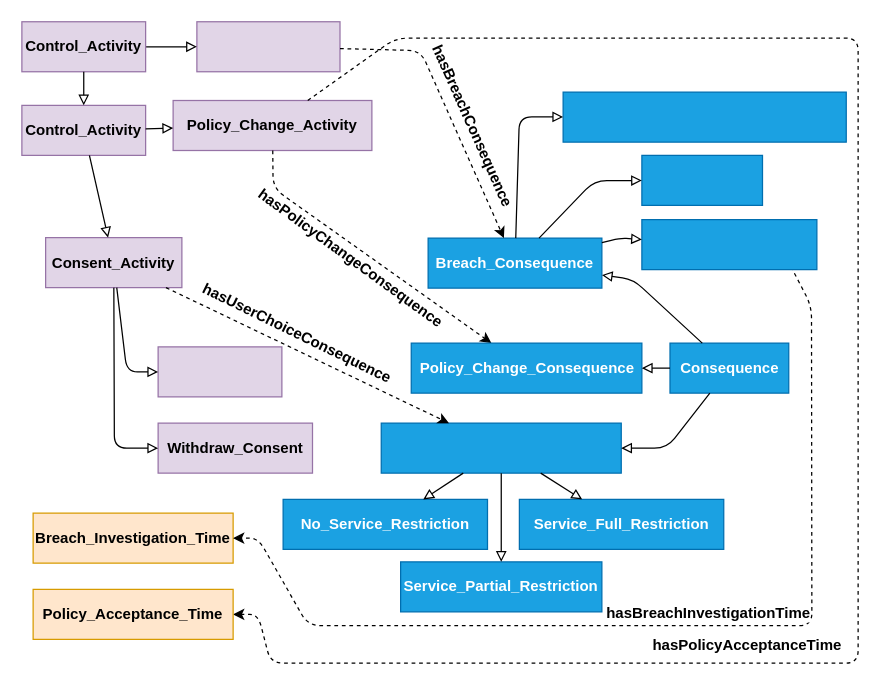
This 890x696 diagram has some shape labels left out. Here are the shapes that lost their labels. From the top down, the centre of each, then its label:
point 268,46: Breach_Activity
point 704,116: Remove_Compromised_Information
point 701,179: Compensation
point 729,244: Breach_Investigation
point 219,371: Give_Consent
point 500,447: User_Choice_Consequence
